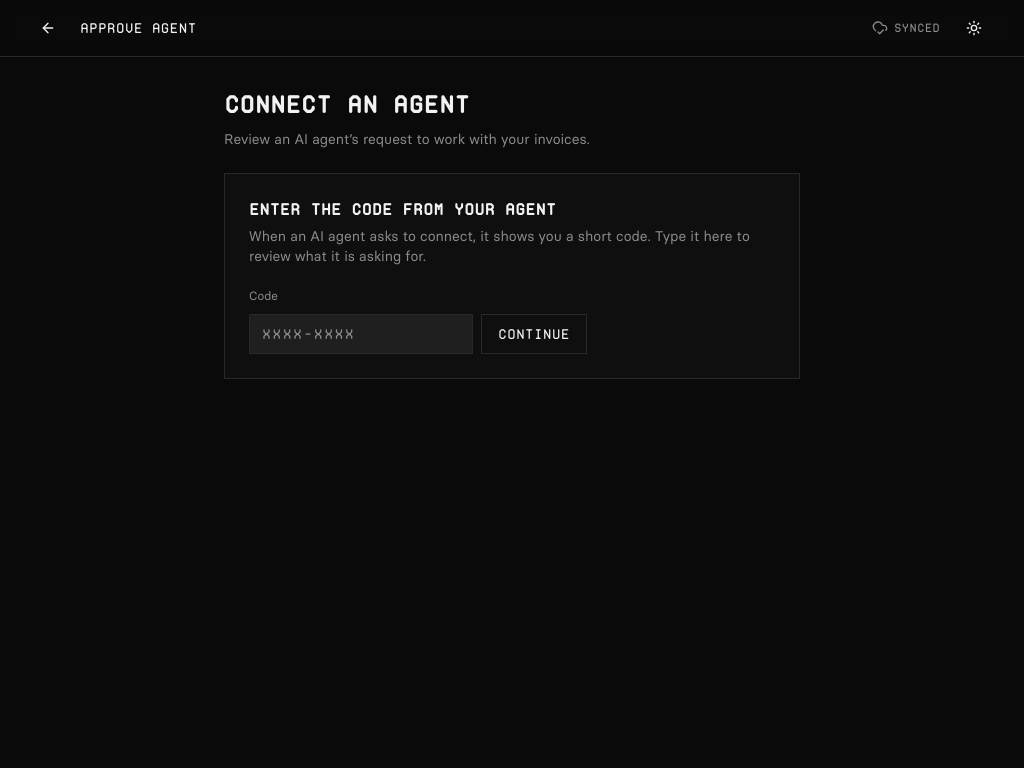
it: ApproveAgent › accepts a manually typed code, forgiving case and separators
Type "wdjb" into the field labelled "Code" at (361, 334), box [249,314,473,354]
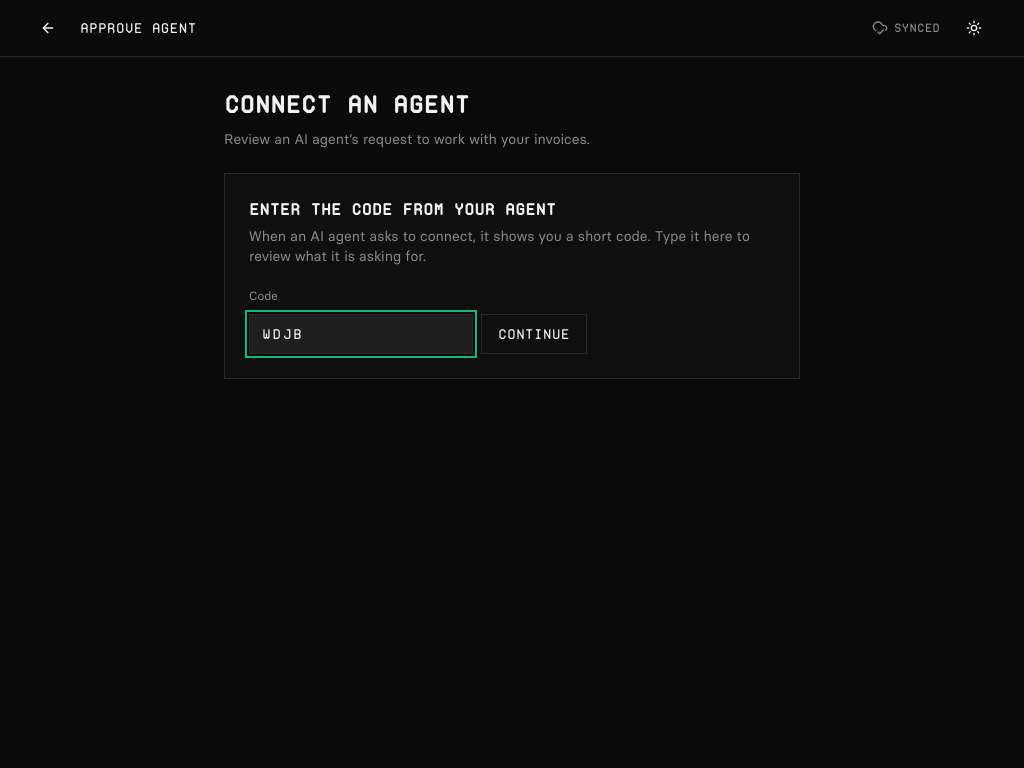
Click the button "Continue" at (534, 334), box [481,314,587,354]
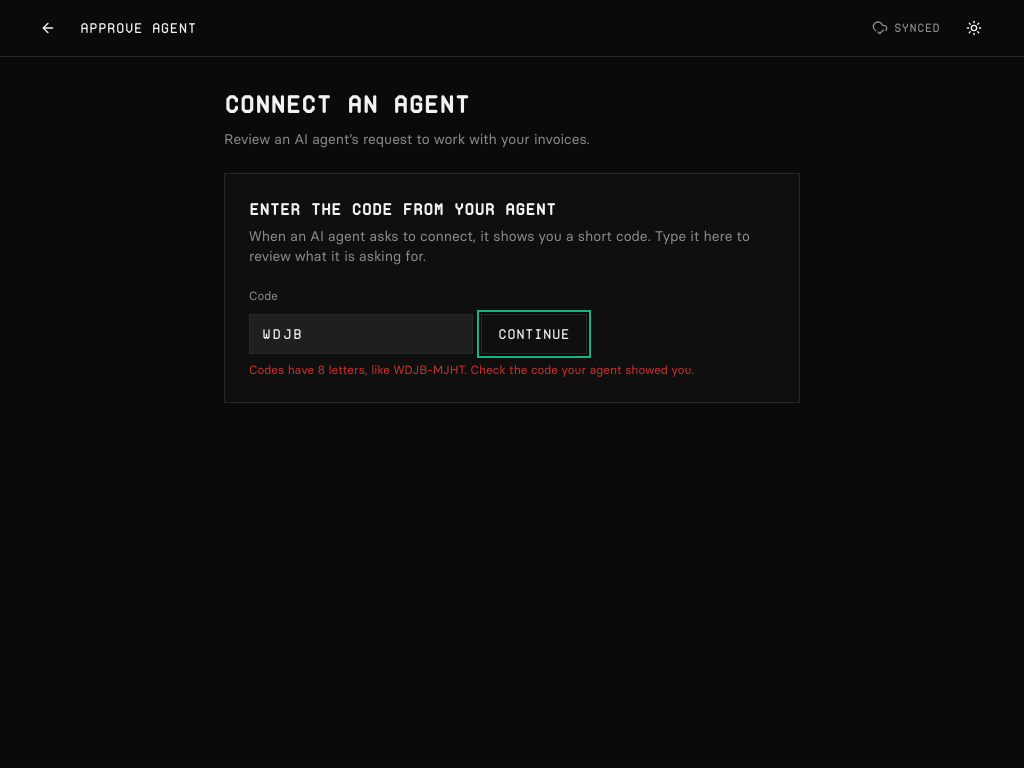
Result: the message shows "8 letters" at [249,362,694,377]
Replace the text in the field labelled "Code" with " wdjb mjht " at (361, 334), box [249,314,473,354]
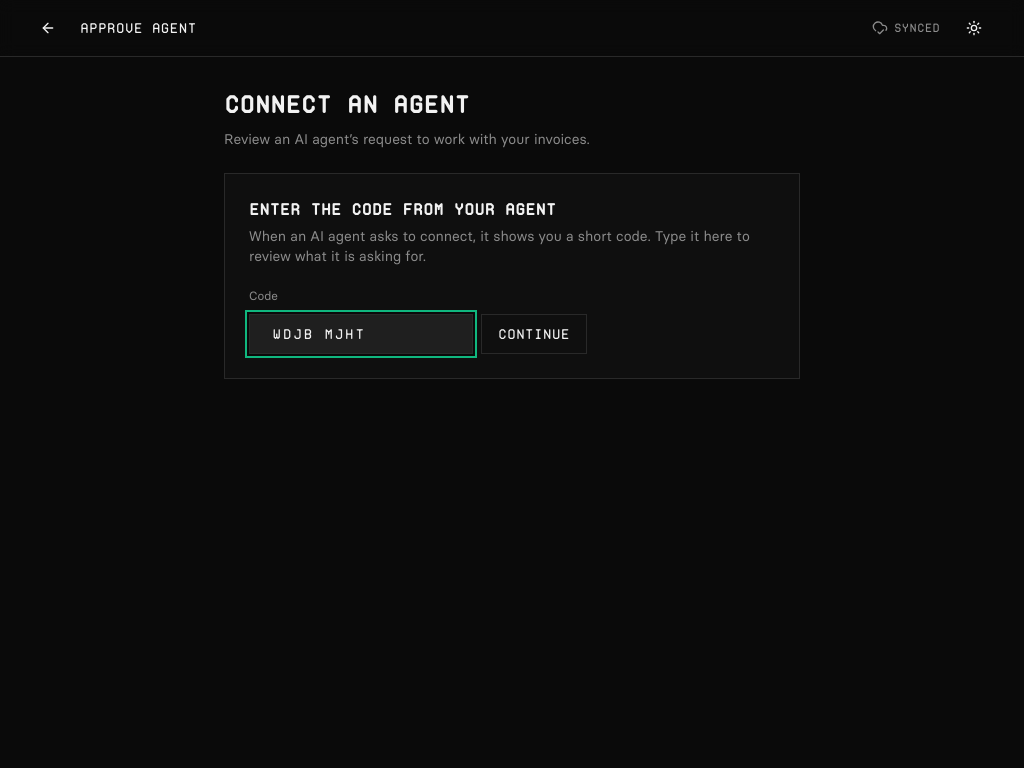
Click the button "Continue" at (534, 334), box [481,314,587,354]
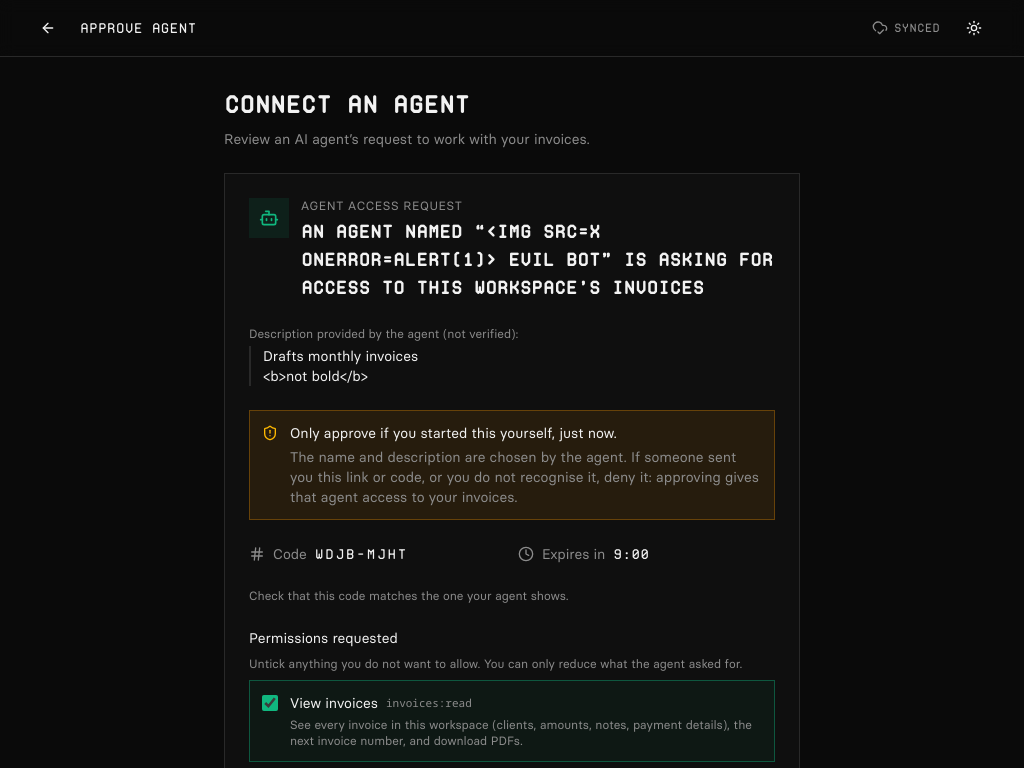
Result: the text "<img src=x onerror=alert(1)> Evil Bot" is shown at [301,222,600,270]
